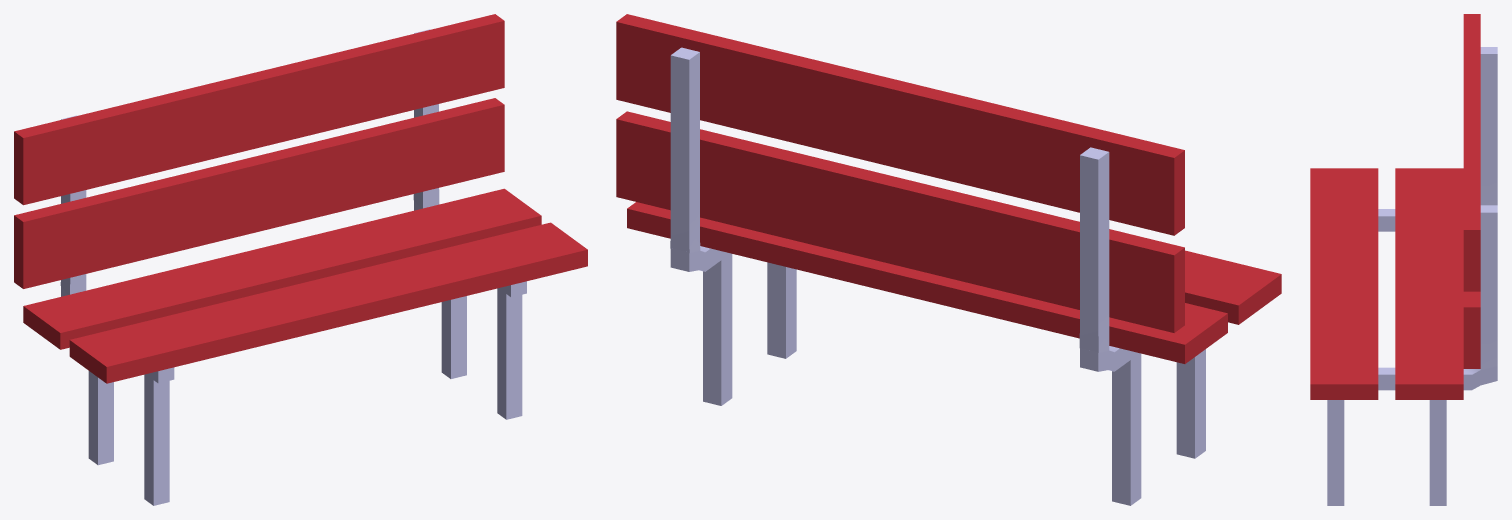
Rendered from bench2.glb.
3 views of the same model, side by side, from view 1: azimuth 30°, elevation 25°; view 2: azimuth 150°, elevation 25°; view 3: azimuth 270°, elevation 25° (orthographic). The views are drawn at different scales.
Visible parts, largest first — view 1: Banc; view 2: Banc; view 3: Banc.
Part boxes in pixels (x1=…): Banc: x1=14, y1=14, x2=587, y2=505; Banc: x1=616, y1=14, x2=1281, y2=505; Banc: x1=1310, y1=14, x2=1497, y2=505.
Size of the model in its own units: 7.5 by 4.88 by 2.75.
